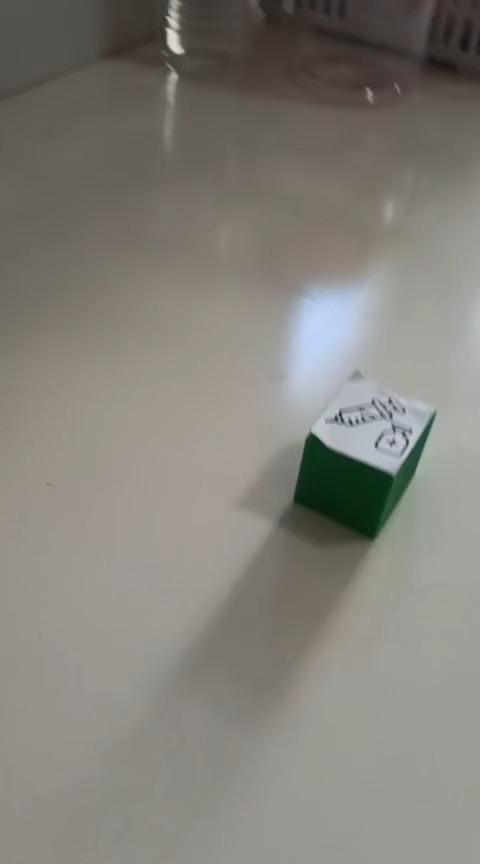antiseptic cream: (291, 366, 437, 539)
